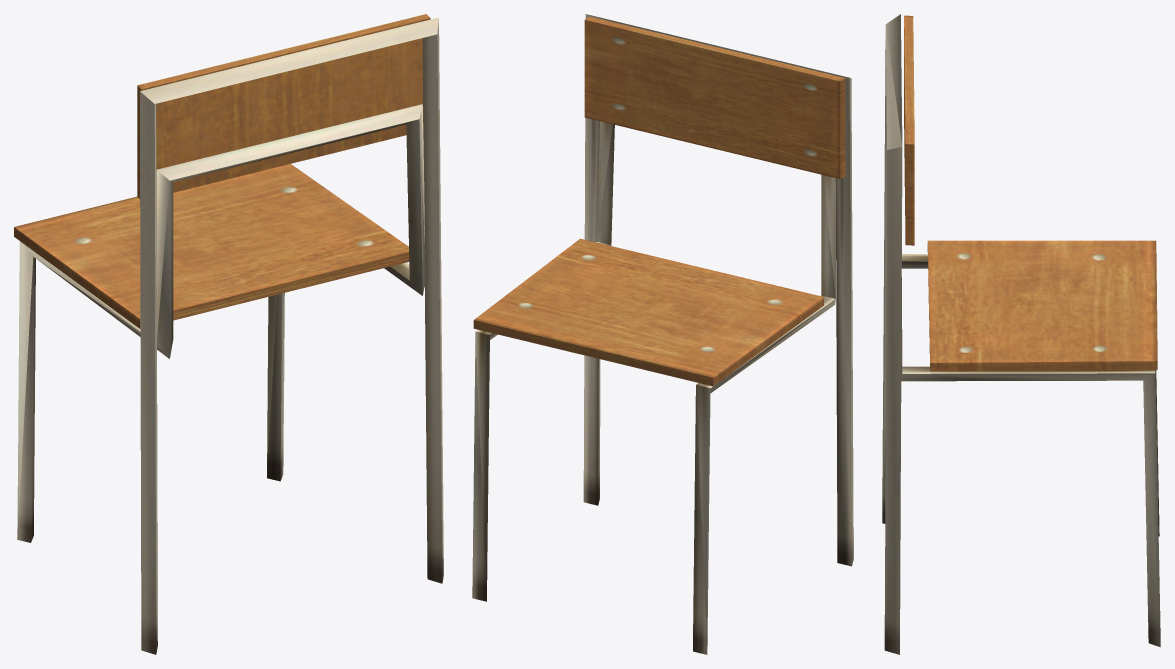
The model's file is Chair.fbx.
3 views of the same model, side by side, from view 1: azimuth 30°, elevation 25°; view 2: azimuth 150°, elevation 25°; view 3: azimuth 270°, elevation 25° (orthographic). The views are drawn at different scales.
Parts seen in each view (by area): view 1: chair; view 2: chair; view 3: chair.
Boxes of the visible parts, x1=… form: chair: x1=14, y1=14, x2=443, y2=654; chair: x1=472, y1=14, x2=853, y2=654; chair: x1=882, y1=14, x2=1160, y2=654.
Bounding box in the file's own units: 43.61 × 76.44 × 38.12.
